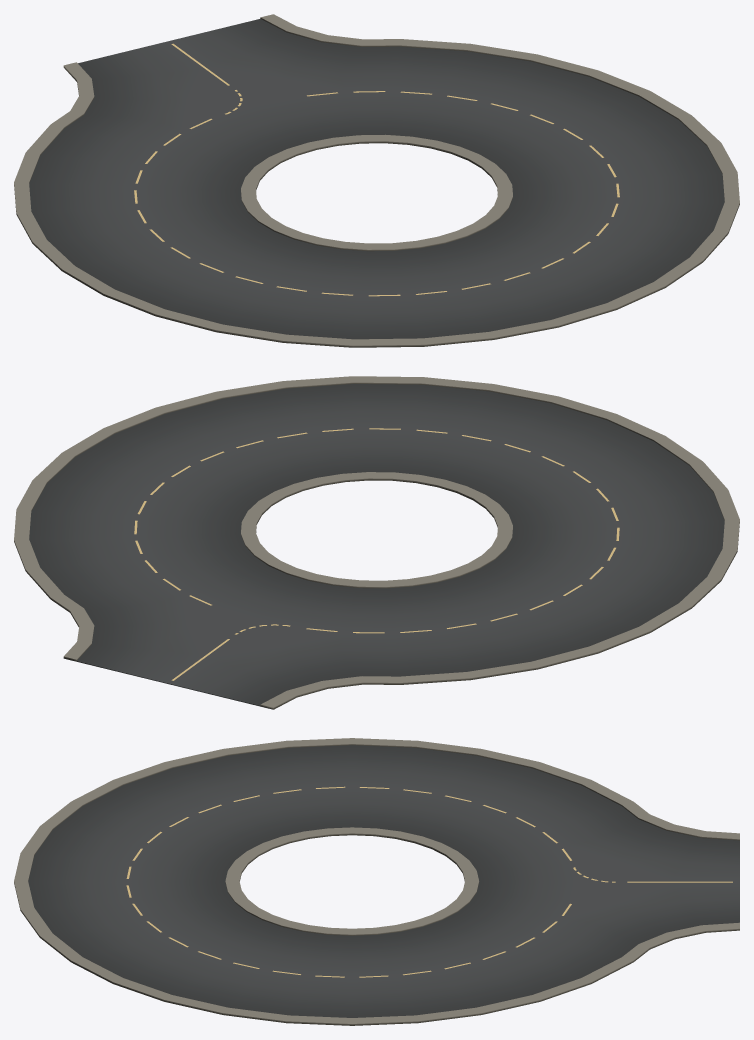
Rendered from Runway_Addon_1C.fbx.
The picture shows the model from 3 angles, top to bottom: view 1: azimuth 30°, elevation 25°; view 2: azimuth 150°, elevation 25°; view 3: azimuth 270°, elevation 25°; orthographic projection. The views are drawn at different scales.
Visible parts, largest first — view 1: Runway_Addon_1C; view 2: Runway_Addon_1C; view 3: Runway_Addon_1C.
Part boxes in pixels (box(x1,y1,x2,y2)): Runway_Addon_1C: box(14, 14, 739, 347); Runway_Addon_1C: box(14, 376, 739, 709); Runway_Addon_1C: box(14, 738, 739, 1025).
Bounding box in the file's own units: 9600 × 30 × 10300.
